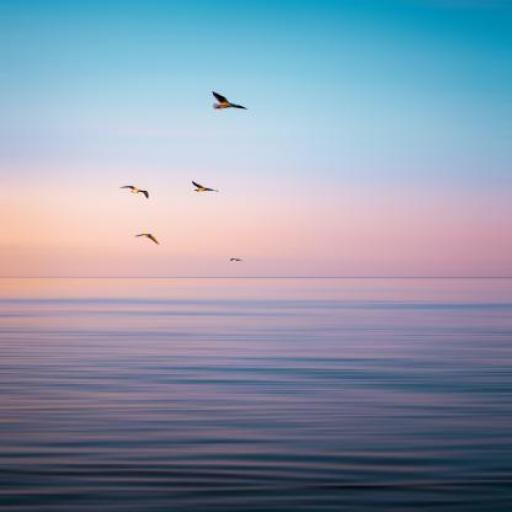bird: (211, 91, 248, 110), (119, 184, 148, 199), (192, 180, 216, 195), (135, 233, 159, 245), (229, 257, 243, 262)
